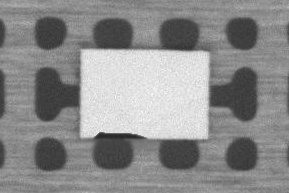DIE_BROKEN: (89, 129, 147, 139)
